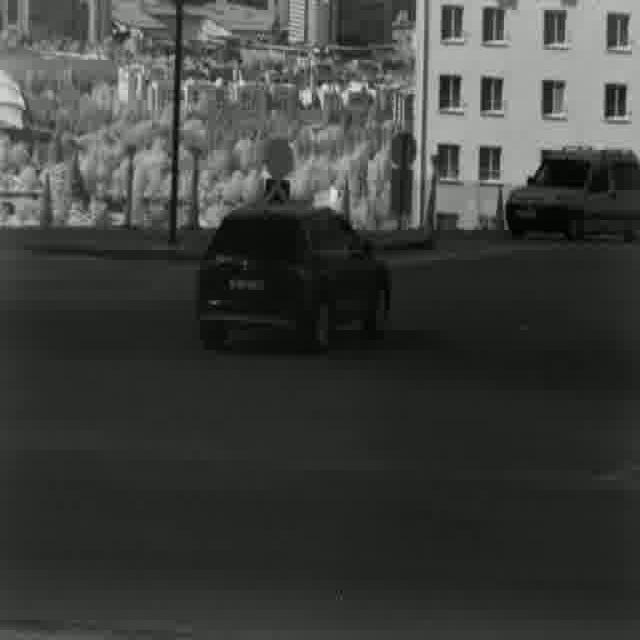Car: (194, 201, 392, 348), (497, 144, 640, 238)
